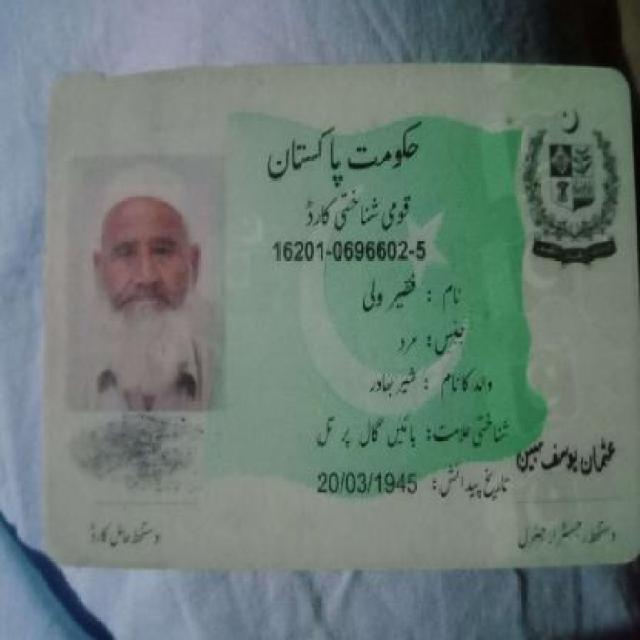Front: (32, 68, 634, 575)
